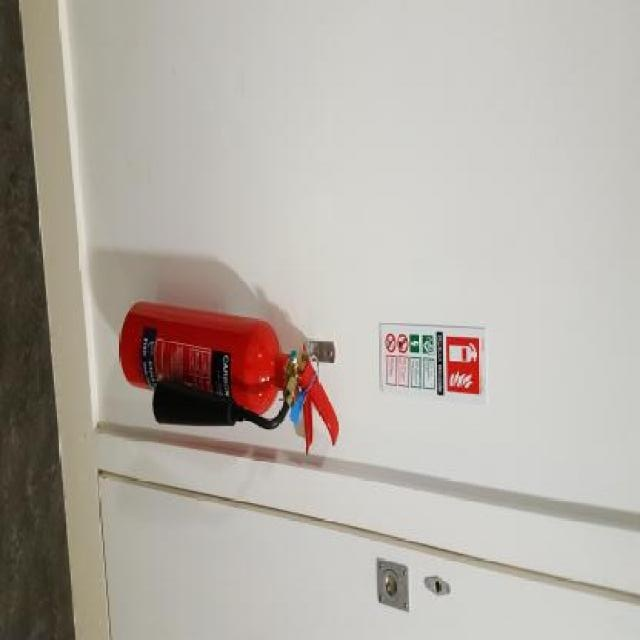fire extinguisher: (118, 300, 342, 462)
